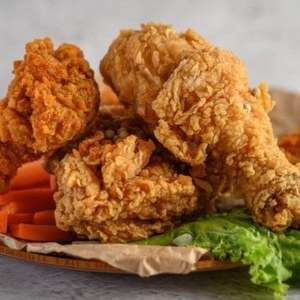ayam_goreng: (95, 17, 300, 229)
